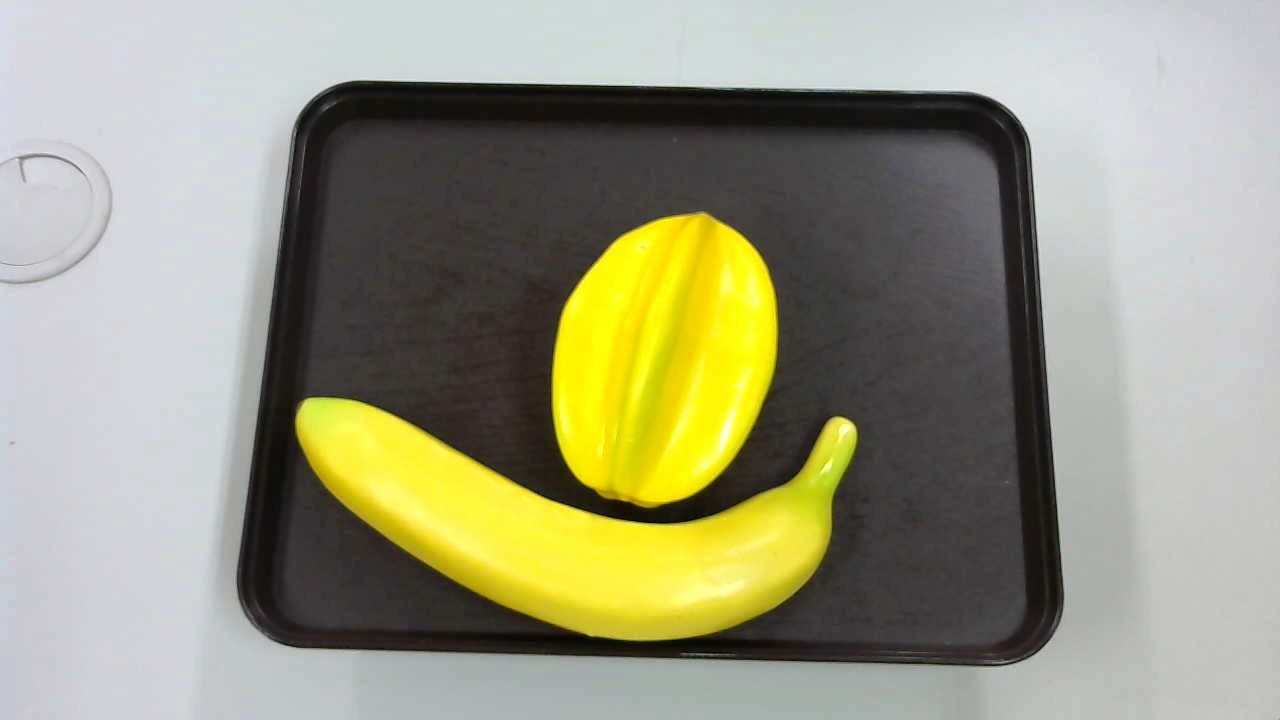banana: (287, 391, 865, 656)
star fruit: (540, 207, 780, 502)
